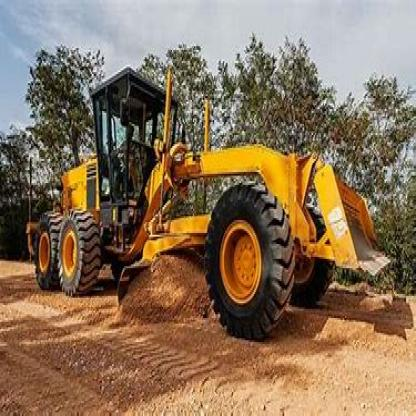bull_dozer/loader/grader: (27, 67, 340, 355)
